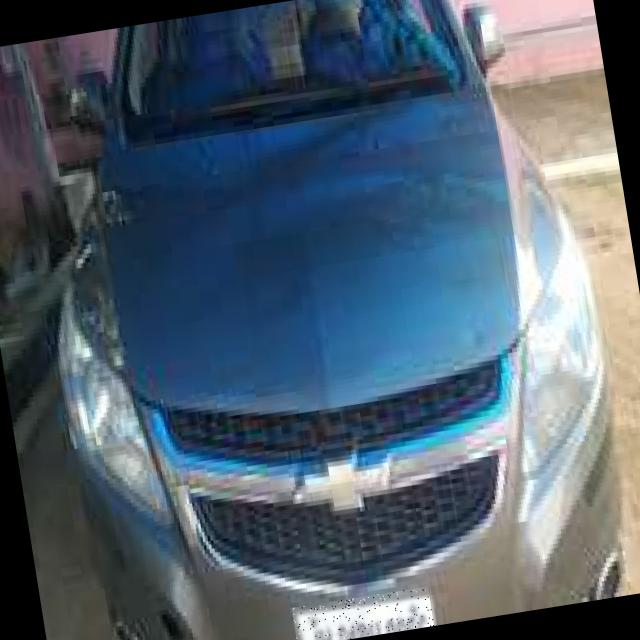Plate: (292, 587, 435, 640)
